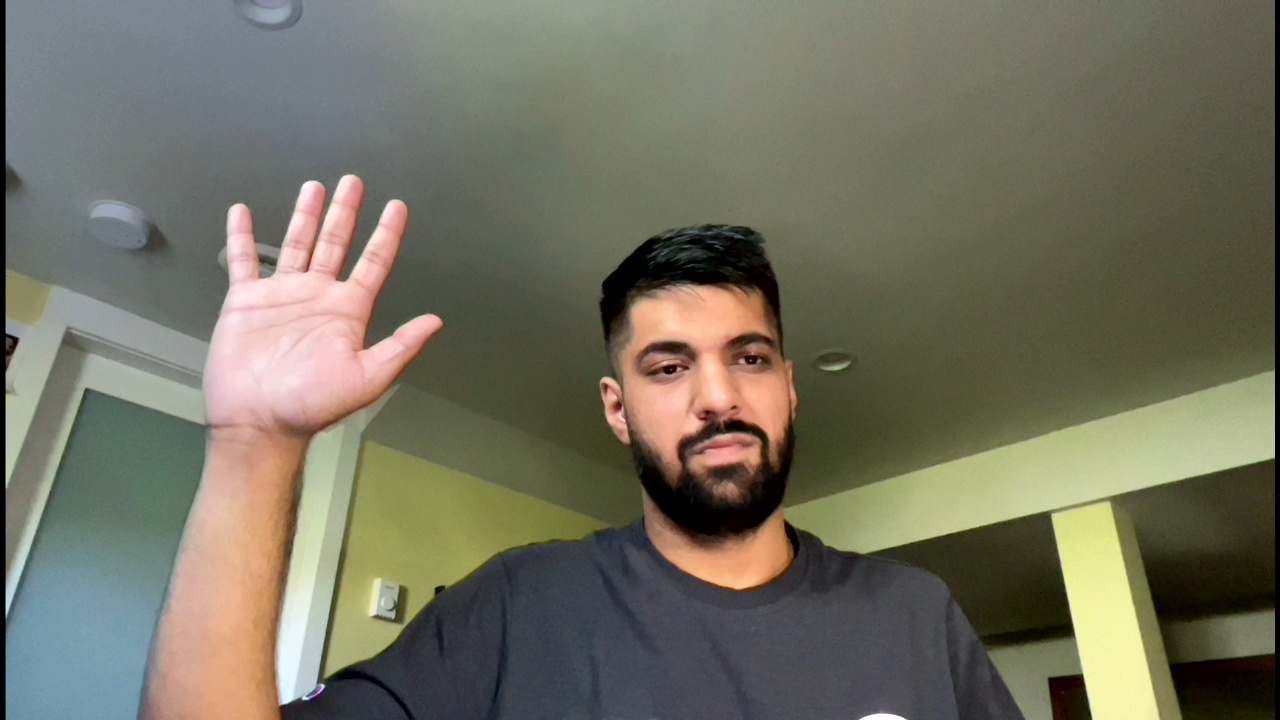Hey!: (177, 168, 449, 440)
